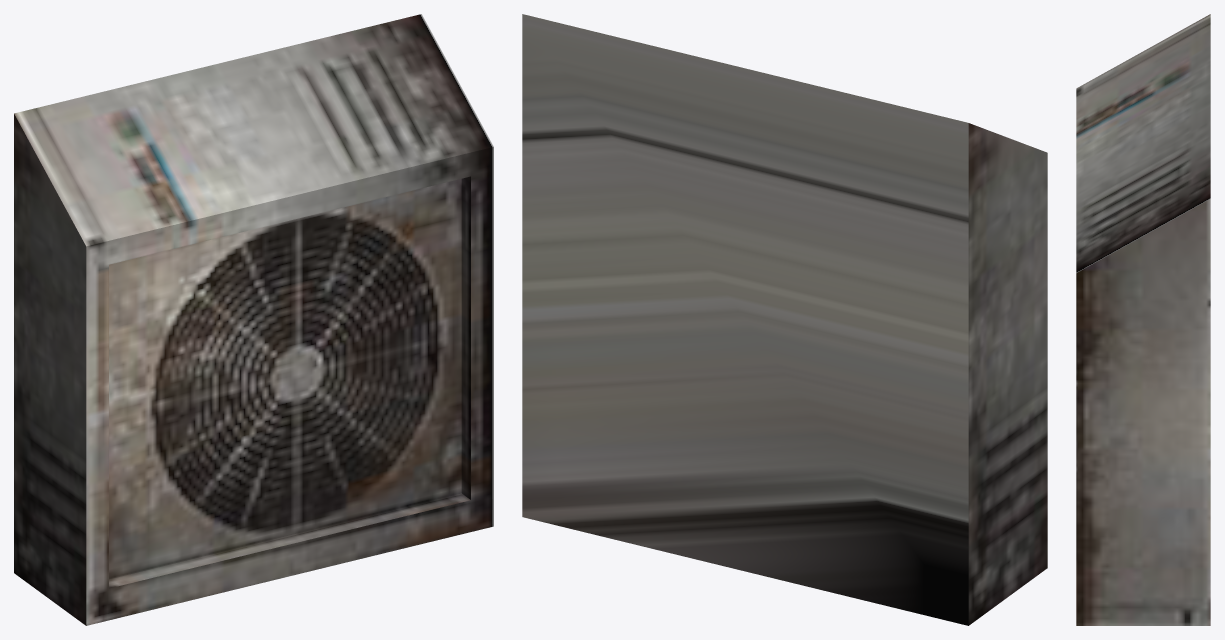
Rendered from Slap_SH_Add_clim.fbx.
3 views of the same model, side by side, from view 1: azimuth 30°, elevation 25°; view 2: azimuth 150°, elevation 25°; view 3: azimuth 270°, elevation 25° (orthographic). The views are drawn at different scales.
Parts seen in each view (by area): view 1: Slap_SH_Add_clim; view 2: Slap_SH_Add_clim; view 3: Slap_SH_Add_clim.
Part boxes in pixels (<box>): Slap_SH_Add_clim: <box>14,14,493,625</box>; Slap_SH_Add_clim: <box>522,14,1047,625</box>; Slap_SH_Add_clim: <box>1076,14,1210,625</box>.
Bounding box in the file's own units: 0.5 × 0.5387 × 0.1533.
Materials: 1 (1 with a texture image).
